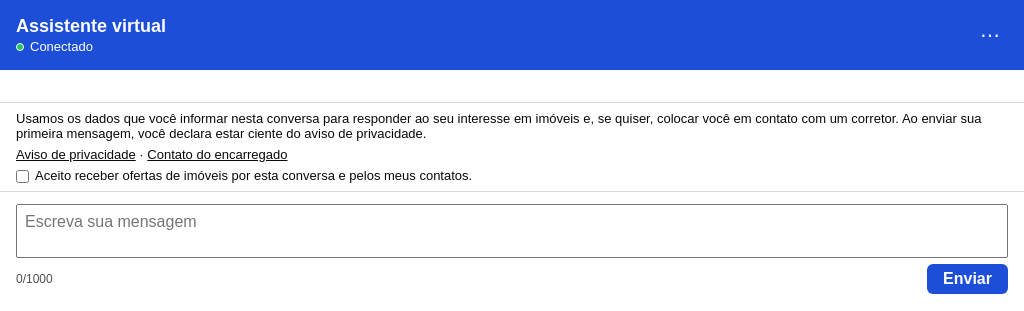
it: Conversa › mostra "Enviando…" ate o ack e "Recebida" depois (cenario 1)
The image size is (1024, 311).
Type "Vocês têm apartamento no Campeche?" into the text box labelled "mensagem" at (512, 231), box [16, 204, 1008, 258]
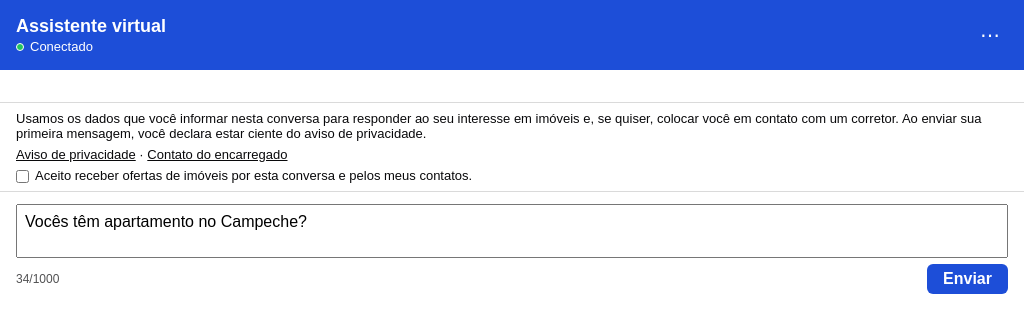
Click the button "Enviar" at (968, 279), box [927, 264, 1008, 294]
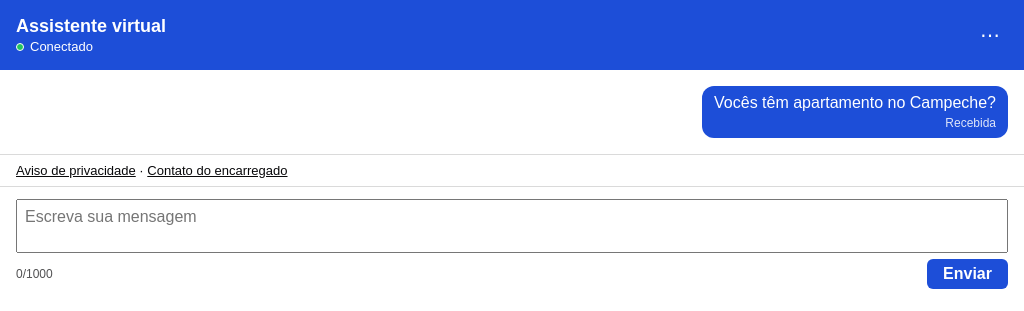
Result: the list item "Vocês têm apartamento no Campeche?" is shown at [714, 94, 996, 111]
Result: the text "Recebida" is shown at [945, 116, 996, 130]
